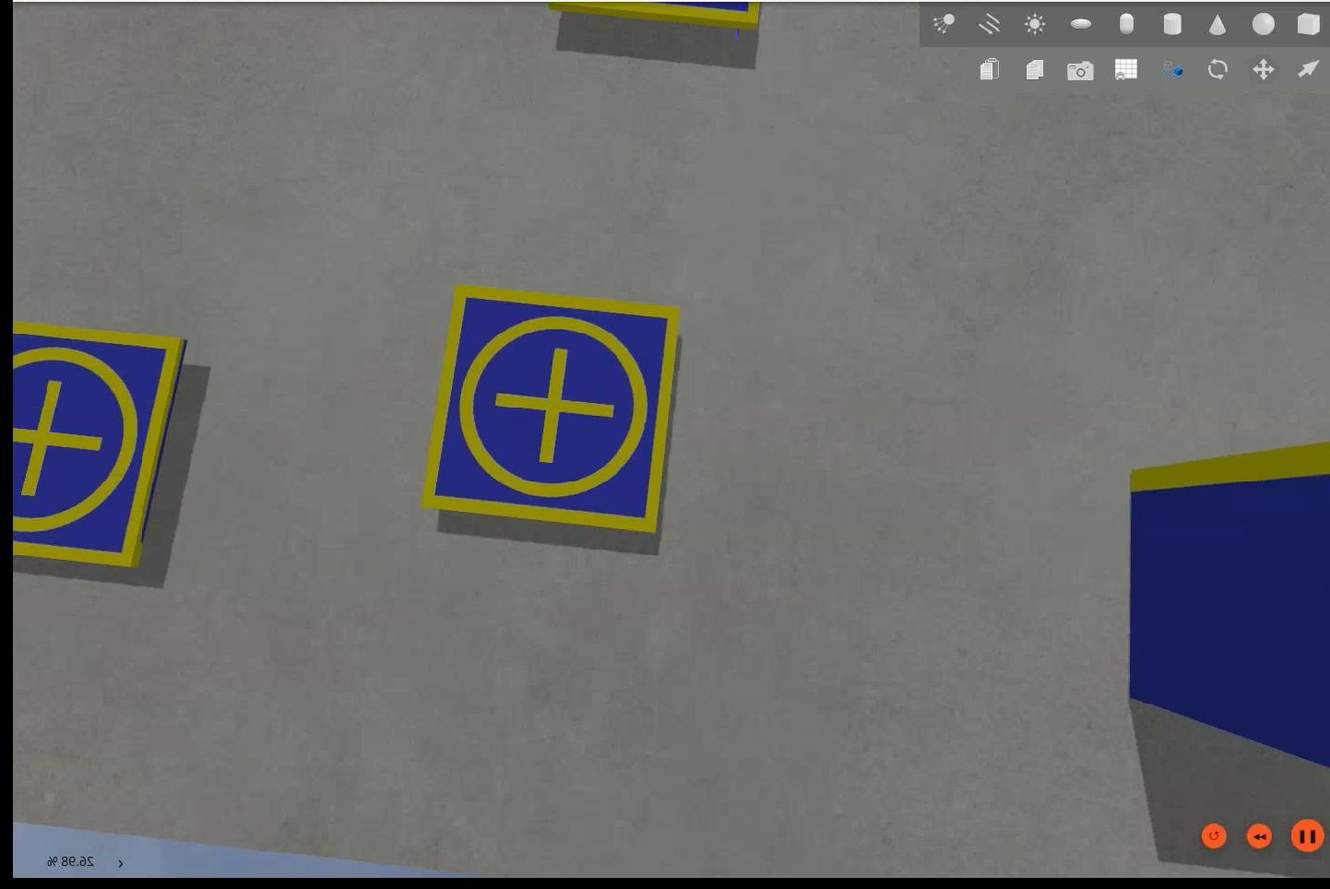small_base: (417, 286, 681, 536), (10, 323, 185, 571)
